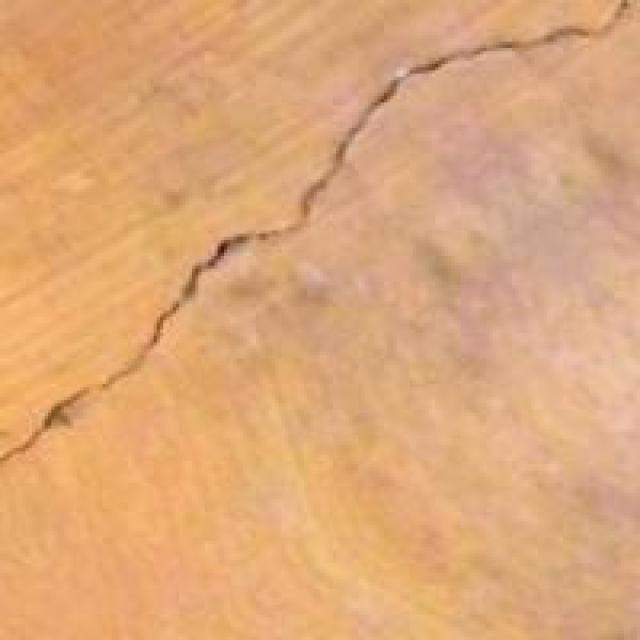crack: (0, 0, 637, 560)
